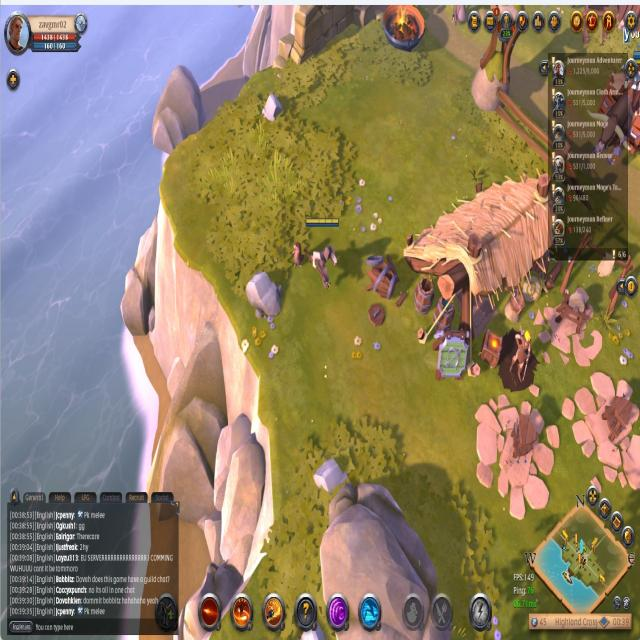stone: (243, 266, 284, 322), (314, 452, 349, 498), (260, 91, 284, 127)
